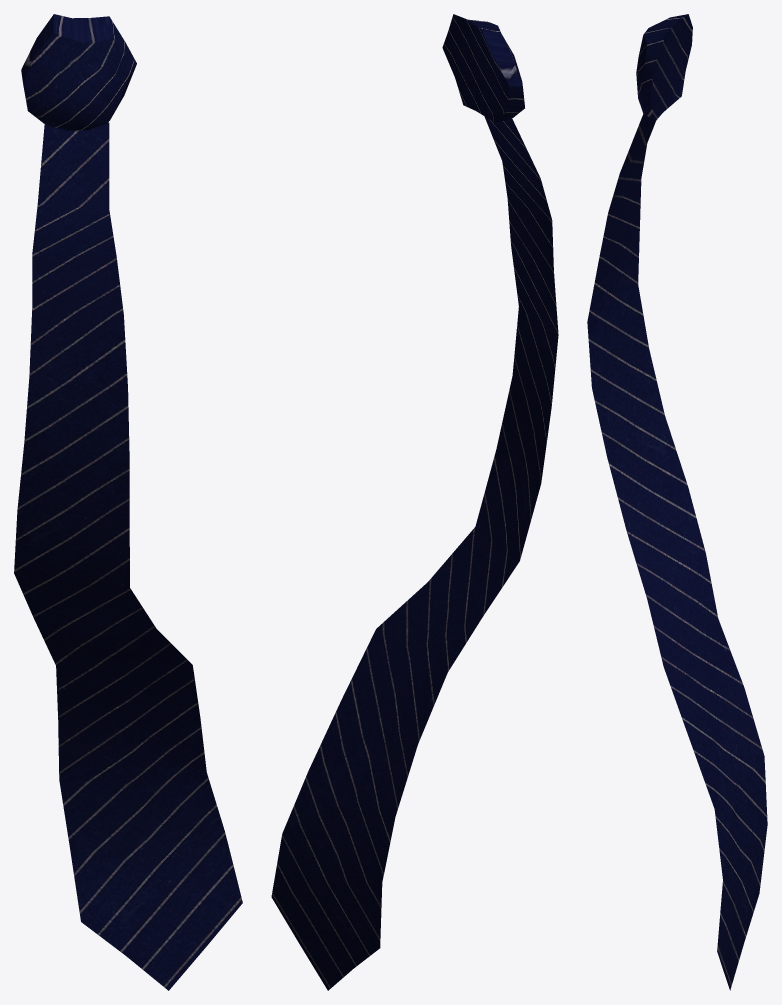
Rendered from Pose-9_SuitTie-4.fbx.
The picture shows the model from 3 angles, left to right: view 1: azimuth 30°, elevation 25°; view 2: azimuth 150°, elevation 25°; view 3: azimuth 270°, elevation 25°; orthographic projection. The views are drawn at different scales.
Visible parts, largest first — view 1: Pose-9_SuitTie-4; view 2: Pose-9_SuitTie-4; view 3: Pose-9_SuitTie-4.
Boxes of the visible parts, x1,y1,x2,y2 form: Pose-9_SuitTie-4: [14, 14, 242, 990]; Pose-9_SuitTie-4: [271, 14, 558, 990]; Pose-9_SuitTie-4: [587, 14, 767, 990].
Bounding box in the file's own units: 12.64 × 48.16 × 8.58.
